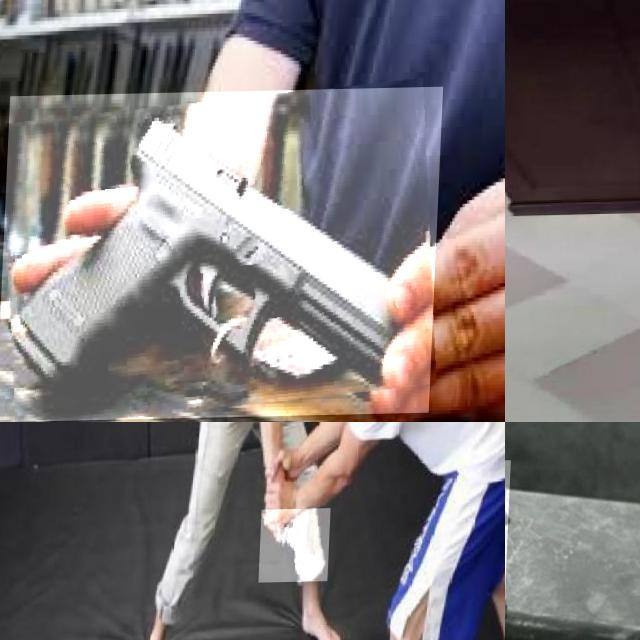-: (262, 510, 334, 584)
gun-knife-thesis - v11 Yolov5 augmented: (1, 89, 445, 422), (505, 462, 601, 636)
